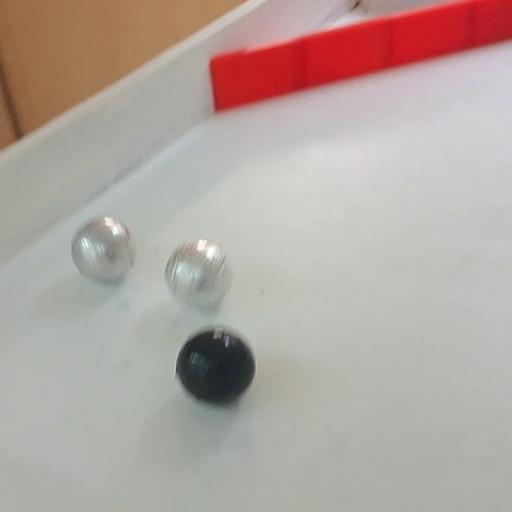alive: (163, 238, 235, 309), (69, 216, 137, 285)
dead: (174, 324, 258, 406)
